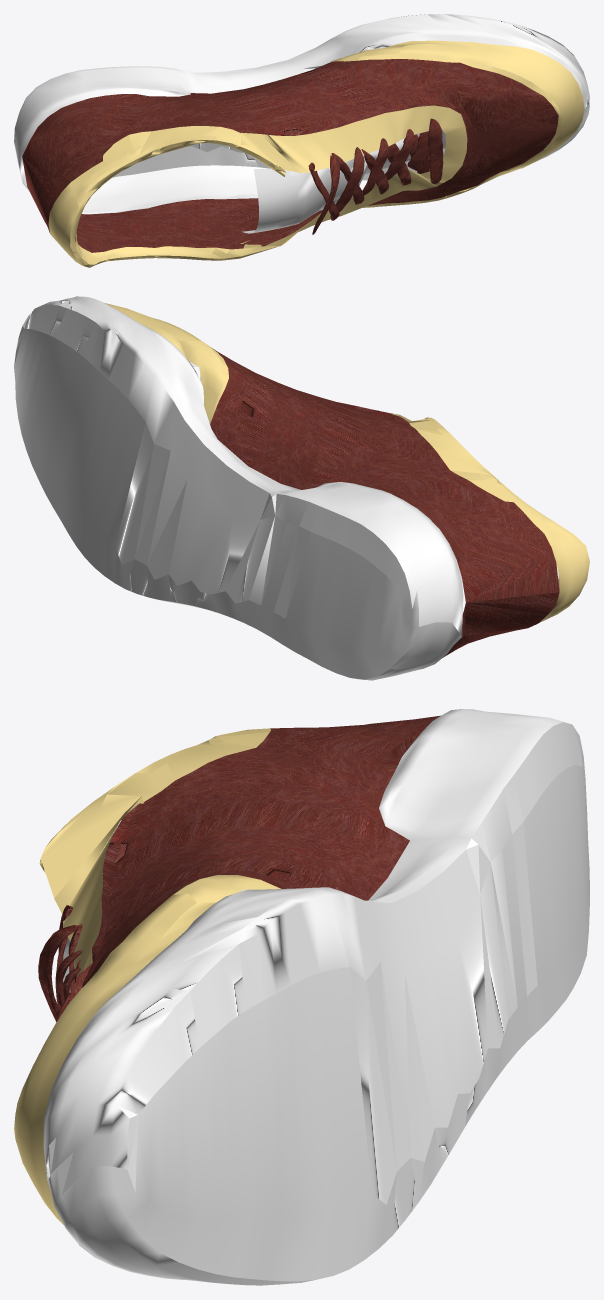
3 renders of one model, top to bottom at view 1: azimuth 30°, elevation 25°; view 2: azimuth 150°, elevation 25°; view 3: azimuth 270°, elevation 25°, orthographic. The views are drawn at different scales.
Visible parts, largest first — view 1: 02_-_Default, 07_-_Default, 01_-_Default, 03_-_Default; view 2: 07_-_Default, 02_-_Default, 01_-_Default; view 3: 07_-_Default, 02_-_Default, 01_-_Default, 03_-_Default.
Part boxes in pixels (x1,y1,x2,y2): 02_-_Default: (22,59,558,252); 07_-_Default: (14,14,589,233); 01_-_Default: (48,40,584,267); 03_-_Default: (308,118,443,234); 07_-_Default: (14,296,463,680); 02_-_Default: (210,348,559,657); 01_-_Default: (105,303,589,622); 07_-_Default: (43,709,589,1285); 02_-_Default: (70,715,440,1001); 01_-_Default: (14,728,280,1224); 03_-_Default: (38,905,83,1021).
Bounding box in the file's own units: 324 × 117 × 164.
